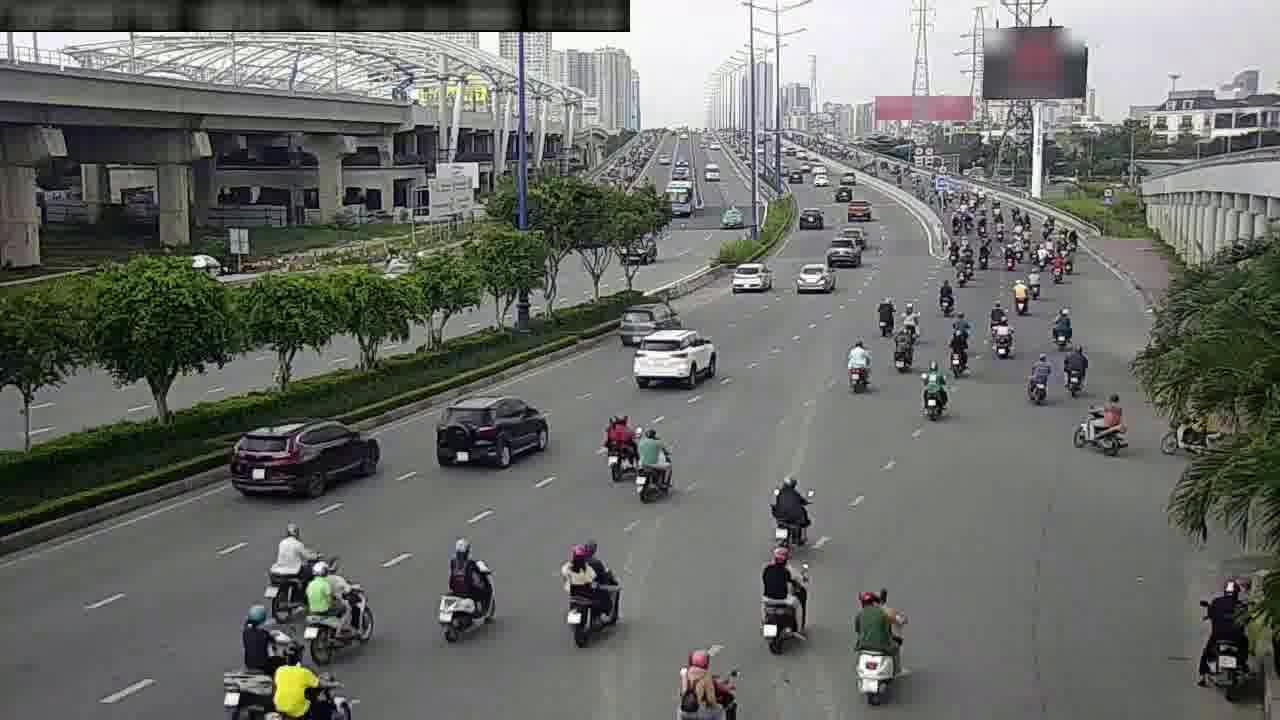container: (232, 412, 377, 496), (438, 393, 551, 470), (631, 323, 716, 388), (614, 298, 675, 346), (725, 252, 776, 297), (791, 256, 836, 296), (825, 236, 862, 268)
motorbike: (288, 536, 376, 655), (1195, 566, 1258, 703), (226, 610, 303, 716), (257, 635, 349, 719), (431, 535, 501, 636), (846, 581, 908, 688), (558, 544, 626, 639), (753, 555, 811, 649), (670, 639, 744, 710), (266, 520, 324, 608), (1077, 386, 1132, 461), (764, 469, 817, 546), (628, 428, 680, 505), (596, 411, 639, 477), (912, 361, 953, 423), (838, 338, 875, 395), (1019, 349, 1056, 405), (1056, 340, 1090, 393), (939, 326, 973, 378), (1043, 304, 1077, 350), (868, 293, 899, 338), (891, 326, 919, 373), (929, 276, 959, 317), (894, 301, 921, 342), (988, 295, 1009, 332), (993, 320, 1011, 358), (1010, 276, 1026, 314), (1048, 250, 1063, 285), (952, 255, 968, 285), (1028, 267, 1040, 299)
